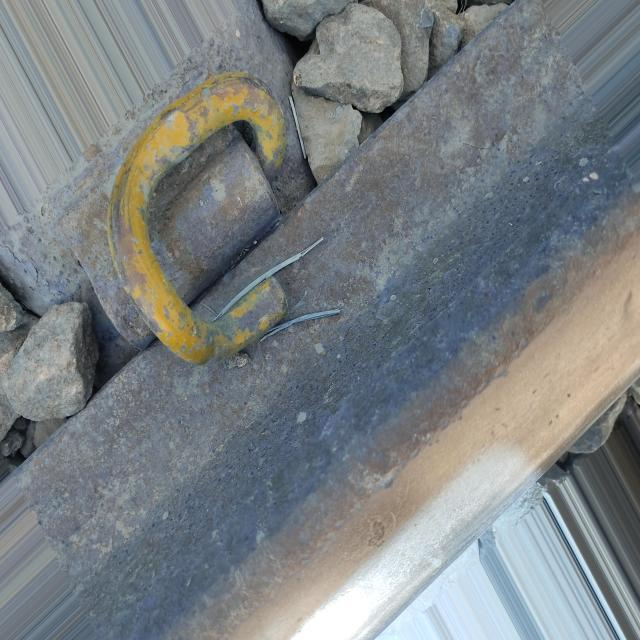Good Fasteners: (28, 41, 374, 436)
